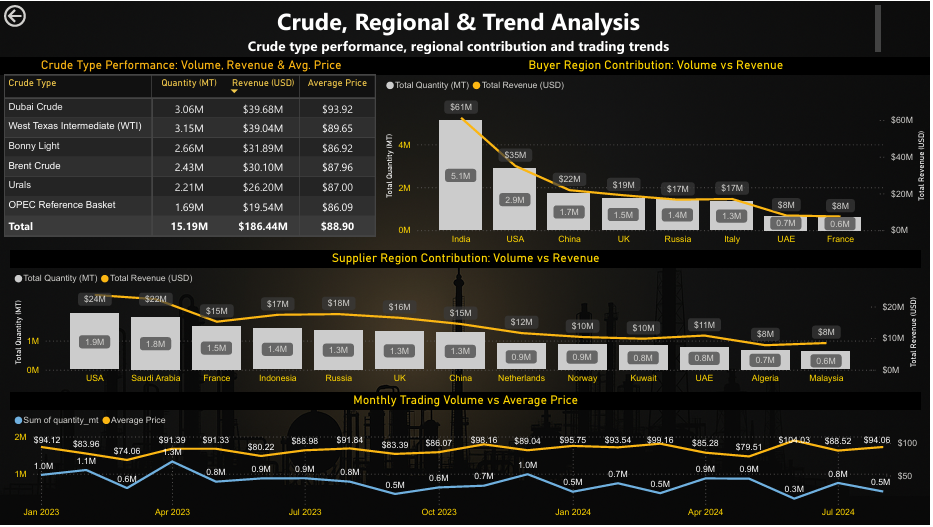

What the dashboard file says about the page in this screenshot:
{"tool":"powerbi","page":{"name":"Crude, Regional & Trend Analysis","canvas":[1280,720],"ordinal":2},"visuals":[{"type":"textbox","box":[50.7,0,1168.7,76.1],"z":0},{"type":"lineClusteredColumnComboChart","title":"Supplier Region Contribution: Volume vs Revenue","fields":{"Category":["Supply Chain & Crude Sales Management Dashboard_SQL Output.Supplier_Region"],"Y":["Supply Chain & Crude Sales Management Dashboard_SQL Output.Total Quantity (MT)"],"Y2":["Supply Chain & Crude Sales Management Dashboard_SQL Output.Total Revenue (USD)"]},"box":[14.5,342.7,1253.5,192.3],"z":1000},{"type":"lineClusteredColumnComboChart","title":"Buyer Region Contribution: Volume vs Revenue","fields":{"Category":["Supply Chain & Crude Sales Management Dashboard_SQL Output.Buyer_Region"],"Y":["Supply Chain & Crude Sales Management Dashboard_SQL Output.Total Quantity (MT)"],"Y2":["Supply Chain & Crude Sales Management Dashboard_SQL Output.Total Revenue (USD)"]},"box":[526.3,76.6,753.3,266],"z":2000},{"type":"lineChart","title":"Monthly Trading Volume vs Average Price","fields":{"Category":["Supply Chain & Crude Sales Management Dashboard_SQL Output.Month"],"Y":["Sum(Supply Chain & Crude Sales Management Dashboard_SQL Output.quantity_mt)"],"Y2":["Supply Chain & Crude Sales Management Dashboard_SQL Output.Average Price"]},"box":[14.5,537.8,1253.5,180.7],"z":3000},{"type":"actionButton","box":[0,0,100,40],"z":5000},{"type":"pivotTable","title":"Crude Type Performance: Volume, Revenue & Avg. Price","fields":{"Rows":["Supply Chain & Crude Sales Management Dashboard_SQL Output.Crude Type"],"Values":["Supply Chain & Crude Sales Management Dashboard_SQL Output.Total Quantity (MT)","Supply Chain & Crude Sales Management Dashboard_SQL Output.Total Revenue (USD)","Supply Chain & Crude Sales Management Dashboard_SQL Output.Average Price"]},"box":[0,76.6,526.3,266],"z":6000}]}

Visuals, with their boxes in screenshot pixels (x1, y1, x2, y2), scaled from the page's 1280x720 canvas onto the 933x527 screenshot:
textbox: {"x1": 37, "y1": 0, "x2": 889, "y2": 56}
"Supplier Region Contribution: Volume vs Revenue" lineClusteredColumnComboChart: {"x1": 11, "y1": 251, "x2": 924, "y2": 392}
"Buyer Region Contribution: Volume vs Revenue" lineClusteredColumnComboChart: {"x1": 384, "y1": 56, "x2": 932, "y2": 251}
"Monthly Trading Volume vs Average Price" lineChart: {"x1": 11, "y1": 394, "x2": 924, "y2": 526}
actionButton: {"x1": 0, "y1": 0, "x2": 73, "y2": 29}
"Crude Type Performance: Volume, Revenue & Avg. Price" pivotTable: {"x1": 0, "y1": 56, "x2": 384, "y2": 251}
